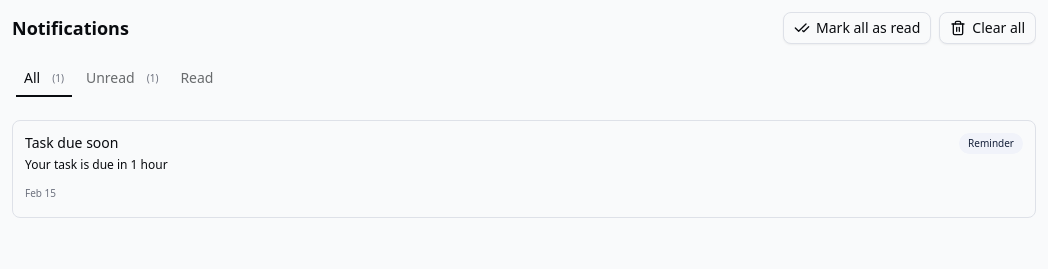
it: NotificationCenter › shows empty state for read tab when no read notifications
What coordinates should you click on to do the following:
click the tab "Read"
I would click on:
 (197, 78)
Its box is [171,64,222,92].
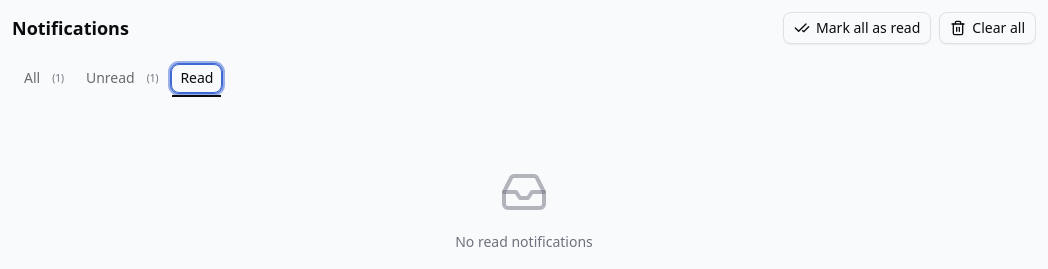
Expected: the text "No read notifications" is shown, [455,232,593,252]
